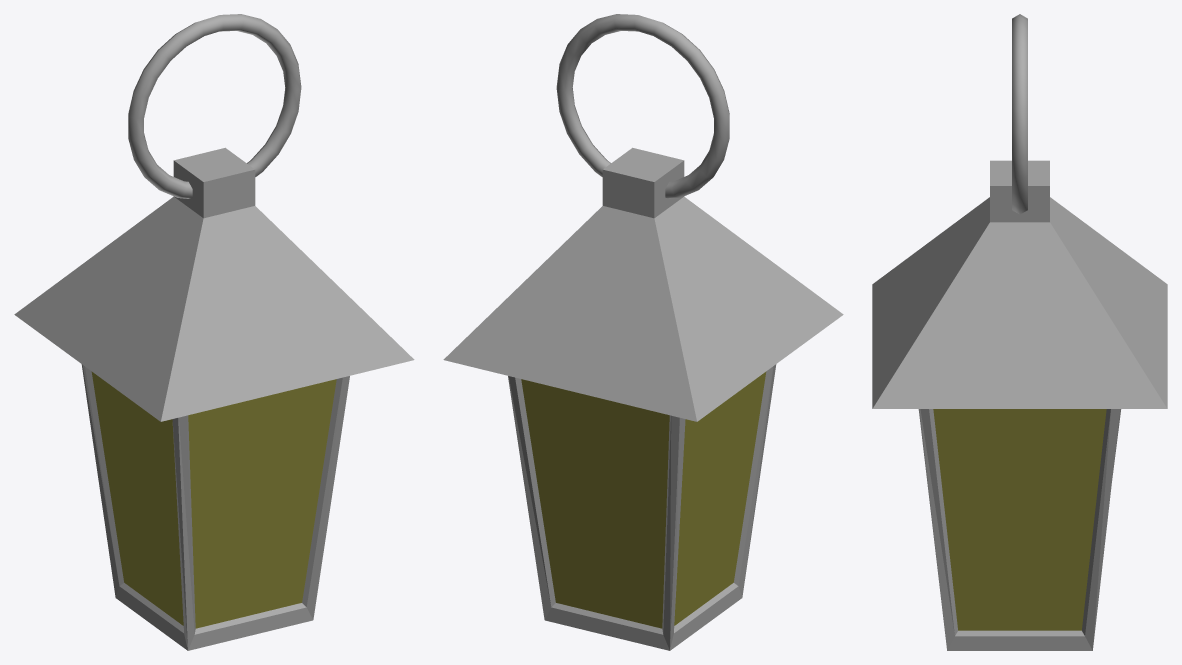
File: lanterne.fbx
3 renders of one model, left to right at view 1: azimuth 30°, elevation 25°; view 2: azimuth 150°, elevation 25°; view 3: azimuth 270°, elevation 25°, orthographic.
Parts seen in each view (by area): view 1: pCube325, pTorus6; view 2: pCube325, pTorus6; view 3: pCube325, pTorus6.
Part boxes in pixels (box(x1,y1,x2,y2)): pCube325: box(14, 147, 414, 650); pTorus6: box(128, 14, 301, 198); pCube325: box(443, 147, 843, 650); pTorus6: box(556, 14, 729, 198); pCube325: box(872, 160, 1167, 650); pTorus6: box(1012, 14, 1027, 214).
Size of the model in its own units: 24.05 by 53.65 by 24.05.
